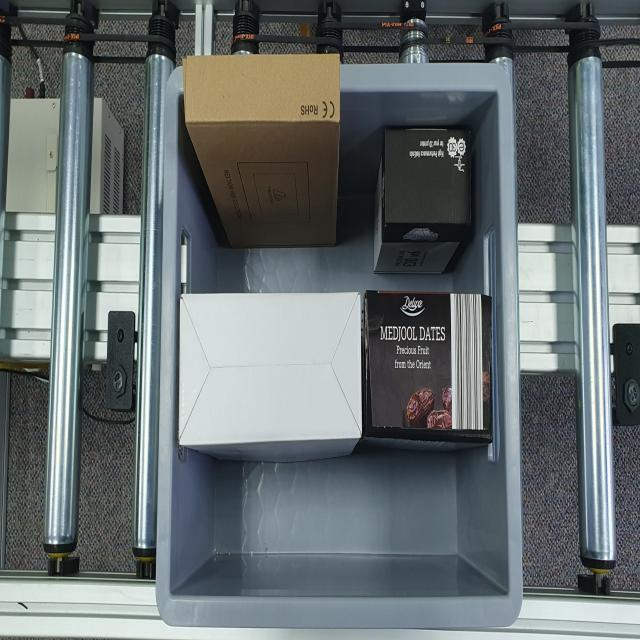box: (176, 290, 365, 441), (367, 291, 493, 440), (181, 52, 339, 126), (380, 127, 476, 219)
